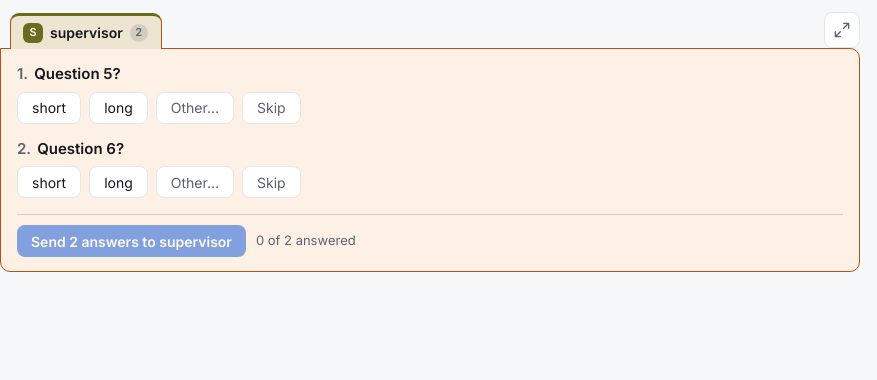
Test: two questions, one answered: Send is off and says how many are answered; a choice unpicks on a second click
Expected: the text with class "waiting-question-n" reads "1.", top-left (17, 64), bottom-right (28, 83)
Expected: the button "Send 2 answers to supervisor" is shown, top-left (17, 225), bottom-right (246, 257)
Click the button "short" below "Question 5?" at (49, 108), box top-left (17, 92), bottom-right (81, 124)
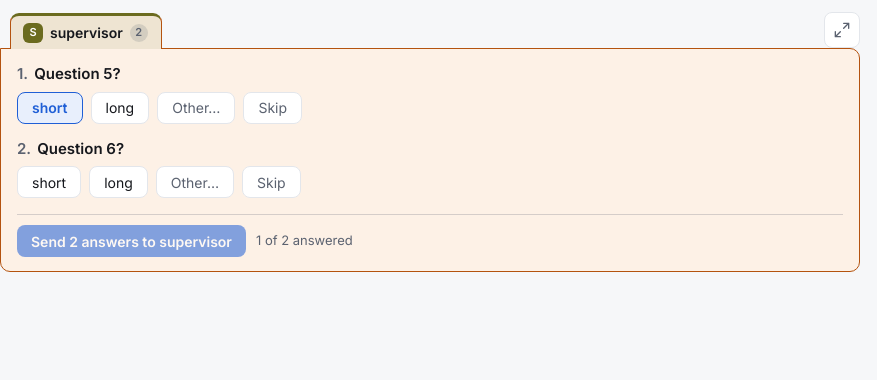
Expected: the button "Send 2 answers to supervisor" is disabled, top-left (17, 225), bottom-right (246, 257)
Result: the text "1 of 2 answered" is shown at top-left (256, 231), bottom-right (353, 251)
Click the button "short" below "Question 5?" at (50, 108), box top-left (17, 92), bottom-right (82, 124)
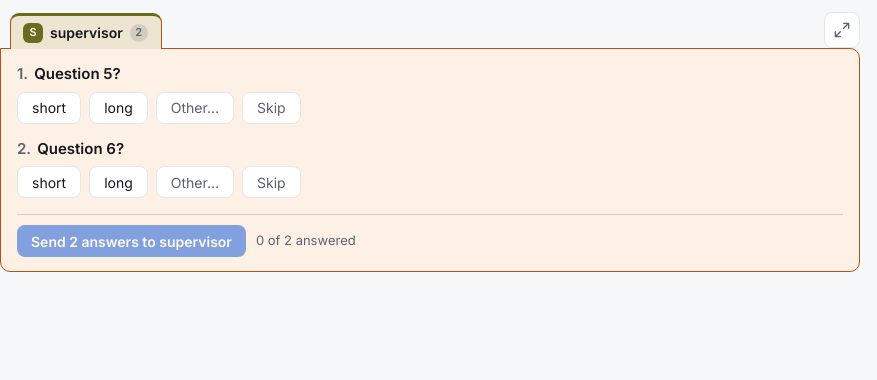
Result: the text "0 of 2 answered" is shown at top-left (256, 231), bottom-right (356, 251)
Click the button "Skip" below "Question 6?" at (271, 182), box top-left (242, 166), bottom-right (301, 198)
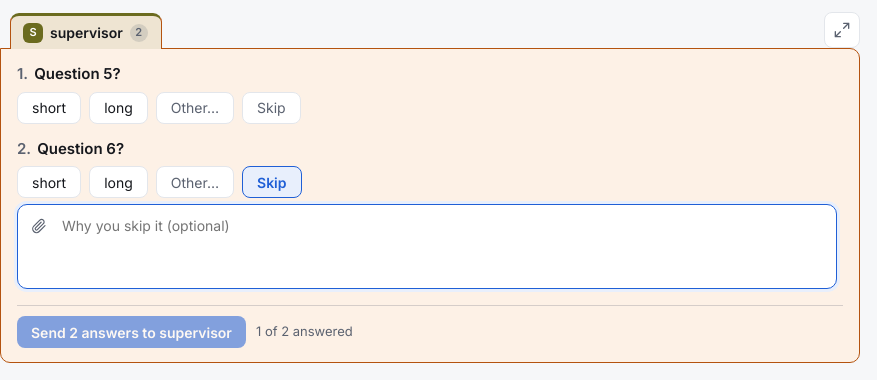
Result: the text "1 of 2 answered" is shown at top-left (256, 322), bottom-right (353, 342)
